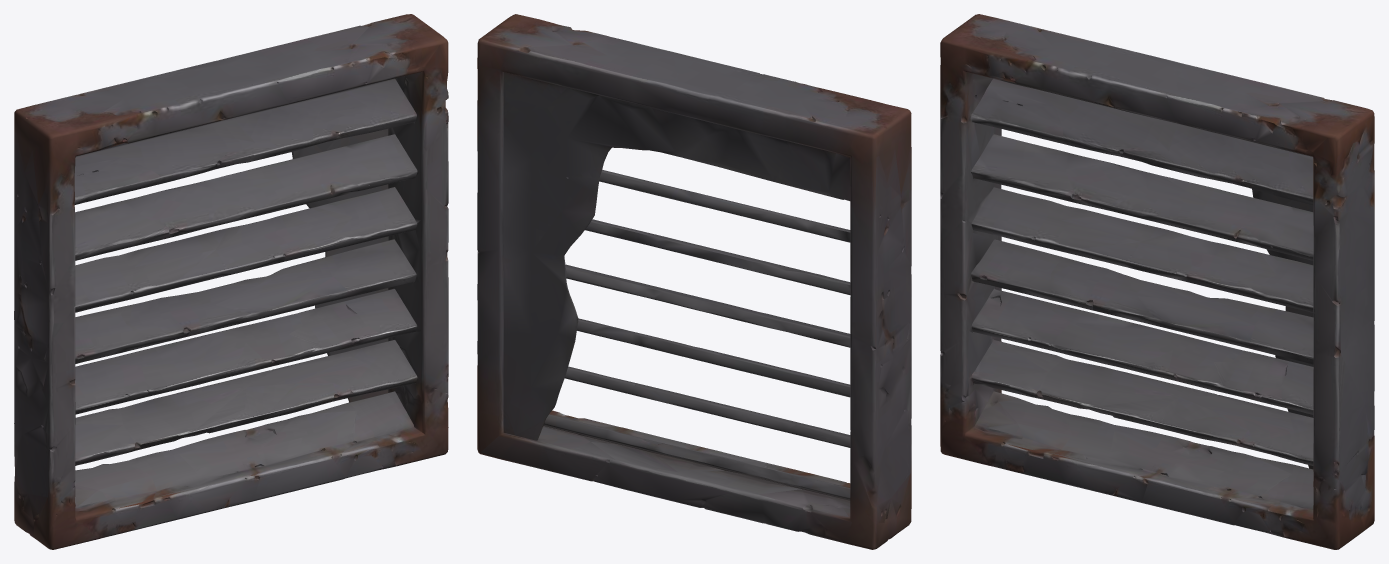
File: decor_vent_rusty_idle.glb
3 renders of one model, left to right at view 1: azimuth 30°, elevation 25°; view 2: azimuth 150°, elevation 25°; view 3: azimuth 330°, elevation 25°, orthographic.
Parts seen in each view (by area): view 1: tripo_node_3961e37a-d3e4-43f7-89c9-7d9b65562ea3; view 2: tripo_node_3961e37a-d3e4-43f7-89c9-7d9b65562ea3; view 3: tripo_node_3961e37a-d3e4-43f7-89c9-7d9b65562ea3.
Boxes of the visible parts, x1,y1,x2,y2 form: tripo_node_3961e37a-d3e4-43f7-89c9-7d9b65562ea3: (14,14,448,549); tripo_node_3961e37a-d3e4-43f7-89c9-7d9b65562ea3: (477,14,911,549); tripo_node_3961e37a-d3e4-43f7-89c9-7d9b65562ea3: (940,14,1374,549).
Bounding box in the file's own units: 0.6035 × 0.5999 × 0.1001.
Materials: 1 (1 with a texture image).
